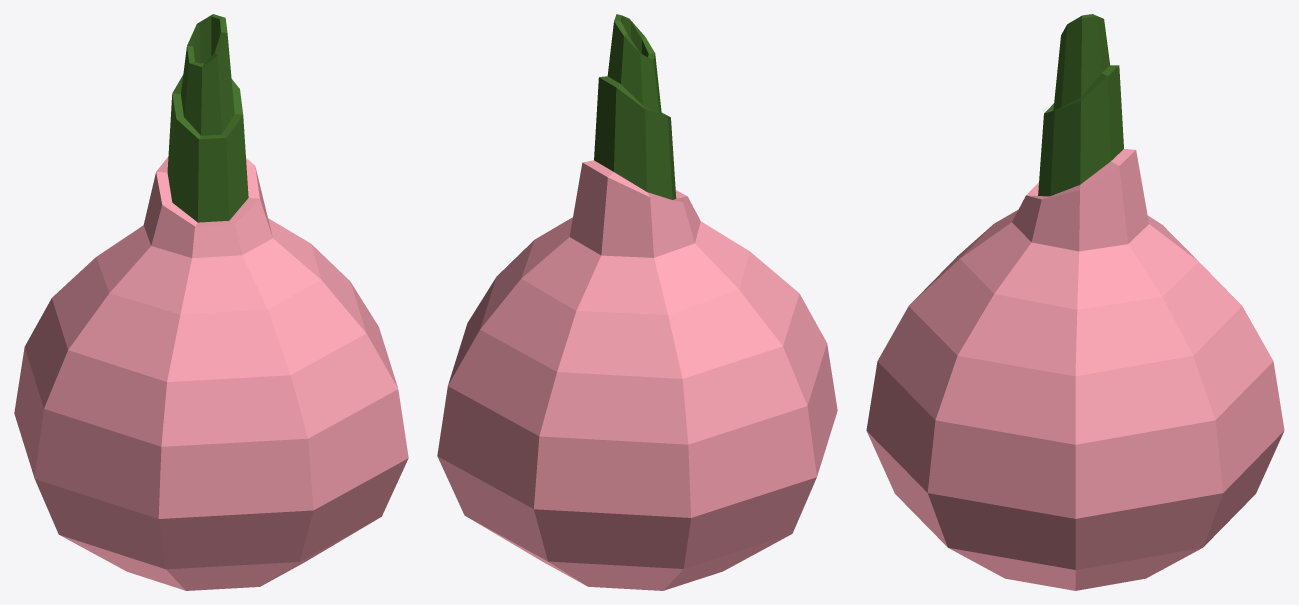
Rendered from Onion_1.fbx.
3 renders of one model, left to right at view 1: azimuth 30°, elevation 25°; view 2: azimuth 150°, elevation 25°; view 3: azimuth 270°, elevation 25°, orthographic. The views are drawn at different scales.
Parts seen in each view (by area): view 1: Onion_1; view 2: Onion_1; view 3: Onion_1.
Boxes of the visible parts, left/top/right/bottom form: Onion_1: left=14, top=14, right=408, bottom=590; Onion_1: left=437, top=14, right=837, bottom=590; Onion_1: left=866, top=14, right=1284, bottom=590.
Size of the model in its own units: 40.63 by 57.82 by 40.63.
